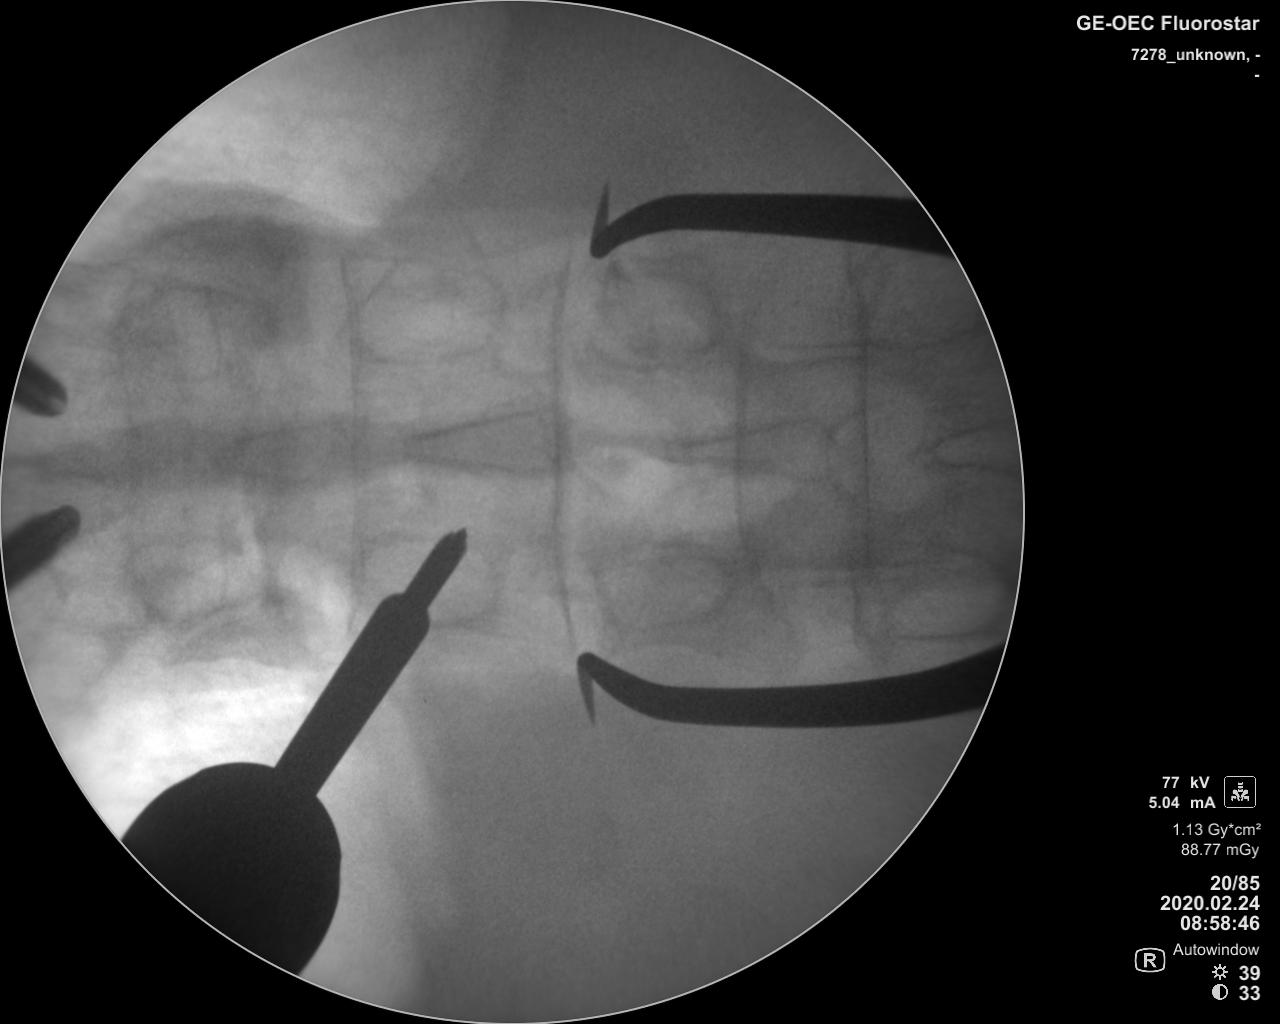eyes: (358, 259, 508, 365), (583, 270, 723, 371), (135, 282, 273, 376), (866, 546, 1006, 637), (363, 536, 508, 623), (597, 548, 736, 628), (122, 539, 260, 618)
line: (544, 230, 579, 653), (338, 252, 365, 628), (847, 260, 872, 565), (726, 270, 747, 564)
nose: (20, 422, 228, 486), (654, 417, 844, 485), (403, 412, 578, 478), (228, 418, 406, 482)
